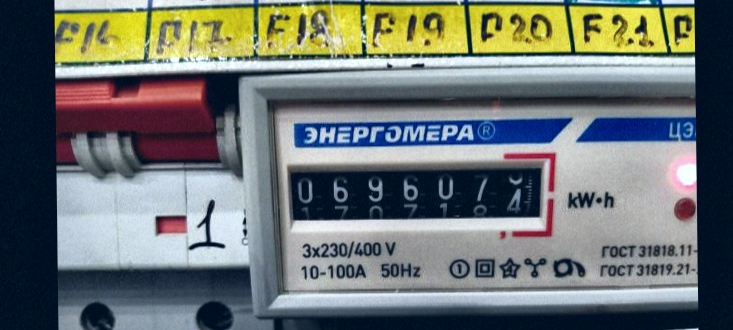0: (293, 175, 314, 205), (435, 172, 454, 201)
4: (502, 186, 521, 216)
6: (399, 173, 419, 204), (329, 174, 348, 204)
7: (470, 171, 488, 202)
9: (364, 174, 384, 203)
screen: (275, 146, 559, 241)
